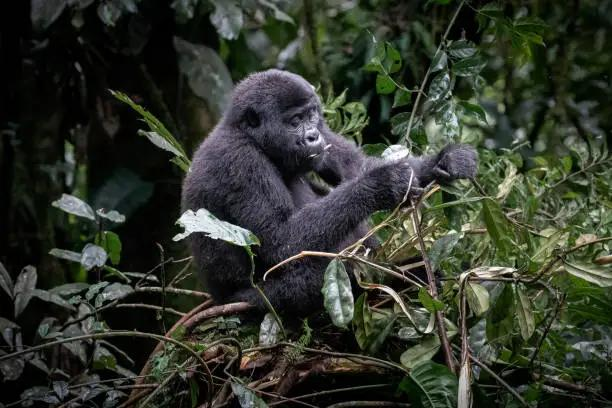gorille_Autres: (169, 40, 458, 335)
